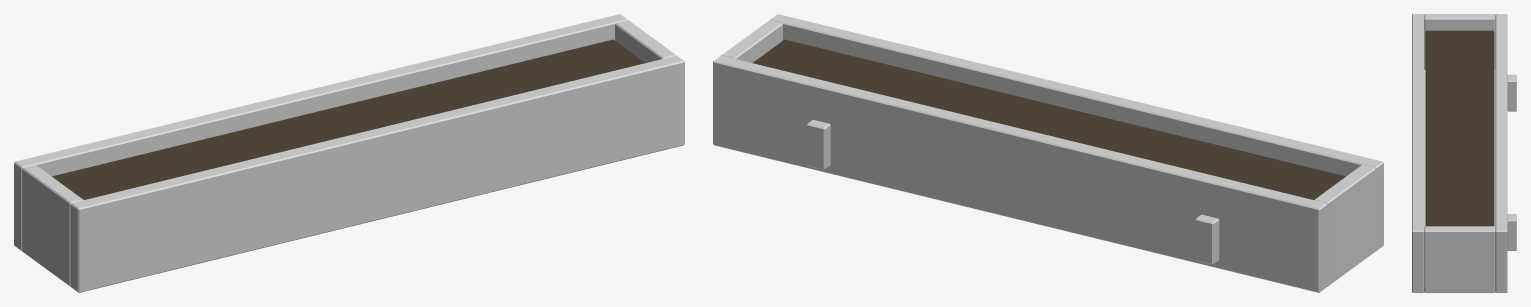
The model's file is CM_BotanicalPlanterKit01_WindowBox_2p10m.fbx.
The picture shows the model from 3 angles, left to right: view 1: azimuth 30°, elevation 25°; view 2: azimuth 150°, elevation 25°; view 3: azimuth 270°, elevation 25°; orthographic projection. The views are drawn at different scales.
Parts seen in each view (by area): view 1: CM_BotanicalPlanterKit01_WindowBox_2p10m_Timber, CM_BotanicalPlanterKit01_WindowBox_2p10m_Soil.001; view 2: CM_BotanicalPlanterKit01_WindowBox_2p10m_Timber, CM_BotanicalPlanterKit01_WindowBox_2p10m_Soil.001; view 3: CM_BotanicalPlanterKit01_WindowBox_2p10m_Timber, CM_BotanicalPlanterKit01_WindowBox_2p10m_Soil.001.
Boxes of the visible parts, x1,y1,x2,y2 form: CM_BotanicalPlanterKit01_WindowBox_2p10m_Timber: [14, 14, 684, 292]; CM_BotanicalPlanterKit01_WindowBox_2p10m_Soil.001: [52, 39, 645, 199]; CM_BotanicalPlanterKit01_WindowBox_2p10m_Timber: [713, 14, 1383, 292]; CM_BotanicalPlanterKit01_WindowBox_2p10m_Soil.001: [752, 39, 1345, 199]; CM_BotanicalPlanterKit01_WindowBox_2p10m_Timber: [1412, 14, 1516, 292]; CM_BotanicalPlanterKit01_WindowBox_2p10m_Soil.001: [1425, 30, 1494, 226].
Bounding box in the file's own units: 2.1 × 0.28 × 0.428.
